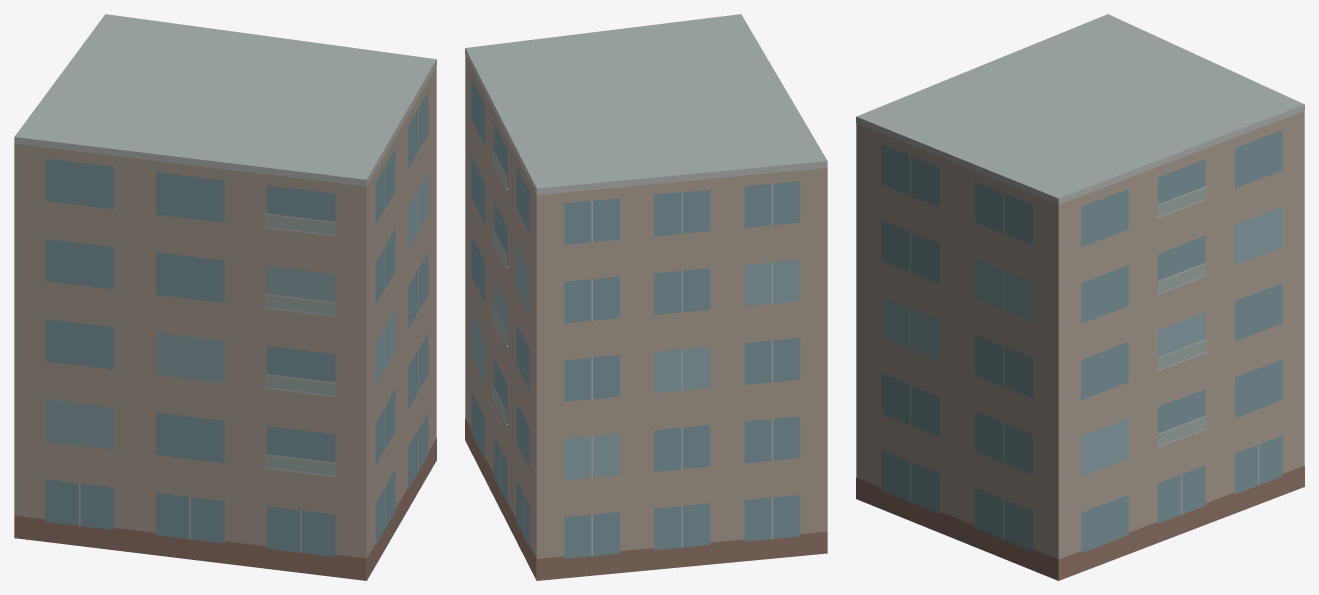
Rendered from survey-upis-32833414.glb.
3 views of the same model, side by side, from view 1: azimuth 30°, elevation 25°; view 2: azimuth 150°, elevation 25°; view 3: azimuth 270°, elevation 25° (orthographic). The views are drawn at different scales.
Parts seen in each view (by area): view 1: survey-upis-32833414.tmp; view 2: survey-upis-32833414.tmp; view 3: survey-upis-32833414.tmp.
Boxes of the visible parts, bbox=[...] form: survey-upis-32833414.tmp: bbox=[14, 14, 436, 580]; survey-upis-32833414.tmp: bbox=[465, 14, 827, 580]; survey-upis-32833414.tmp: bbox=[856, 14, 1304, 580].
Bounding box in the file's own units: 15.01 × 14.5 × 15.42.
